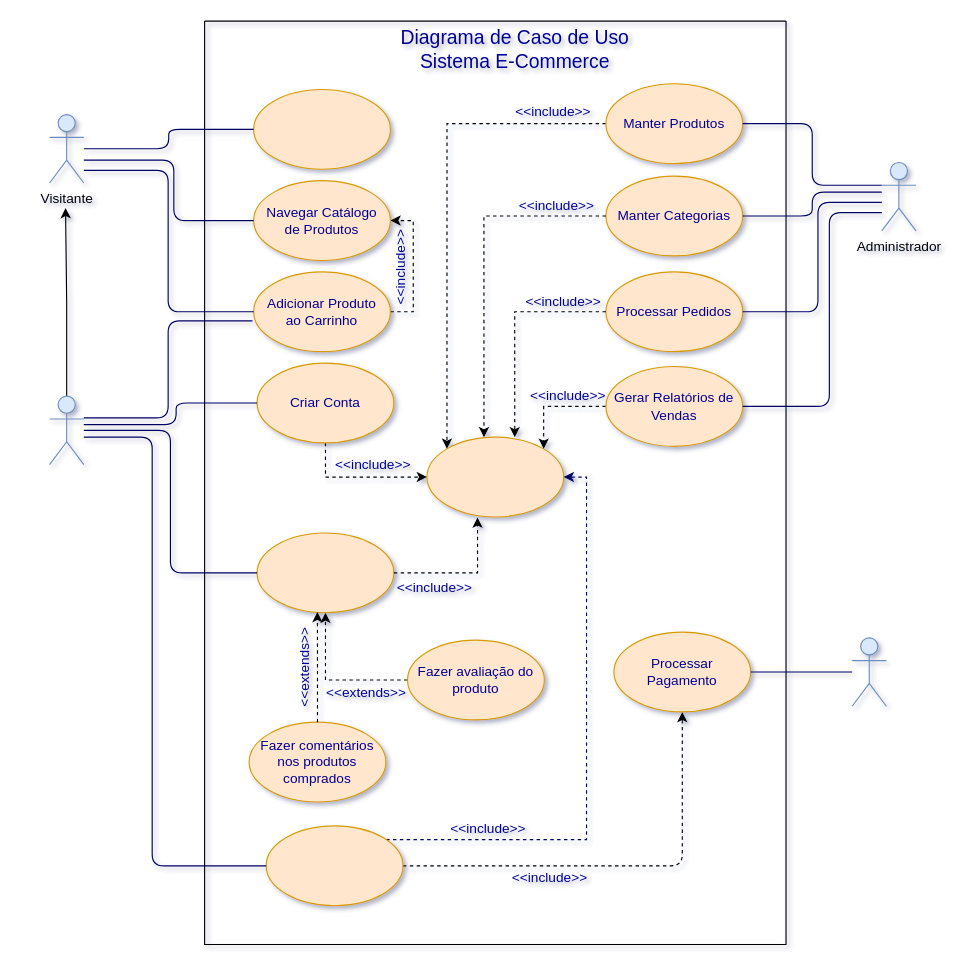
Image size: 967x971. Some labels were removed from this diagram. The shapes that lost their labels are listed below. From the top down, each one's centre as x and y in pixels, then its label:
At point 321,128: "Realizar Pesquisa".
At point 66,430: "Usuário/Cliente".
At point 495,476: "Realizar Login".
At point 325,572: "Acompanhar Status dos Pedidos".
At point 868,671: "Sistema Externo Pagamento".
At point 334,865: "Efetuar Pedido".
